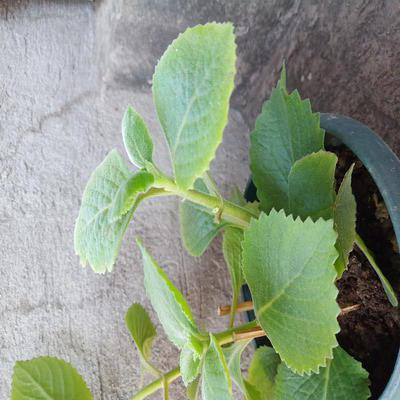Oregano: (91, 112, 384, 395)
